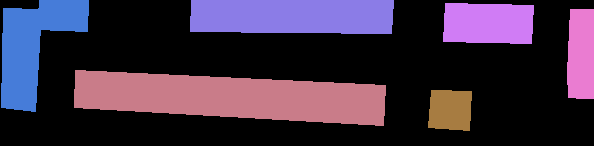parkingspot: (74, 70, 385, 125), (190, 0, 393, 33), (1, 8, 40, 111), (443, 3, 533, 43), (567, 9, 594, 98), (428, 90, 471, 130), (37, 0, 88, 31)
